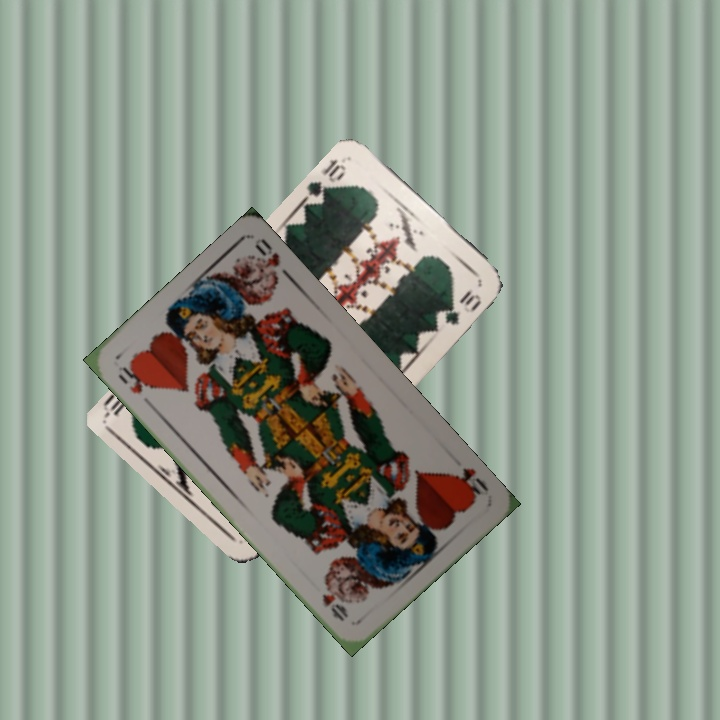G10: (301, 154, 349, 208)
HO: (113, 359, 157, 411), (447, 463, 492, 503)
